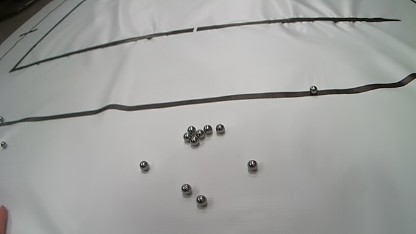ironball: (181, 183, 192, 195), (247, 159, 258, 171), (196, 195, 207, 206), (215, 123, 225, 134), (139, 160, 149, 171), (195, 129, 205, 139), (189, 136, 199, 146), (203, 124, 212, 134), (183, 132, 192, 142), (187, 126, 196, 135), (309, 85, 317, 94), (0, 141, 6, 148), (145, 35, 153, 39), (0, 116, 3, 122)
